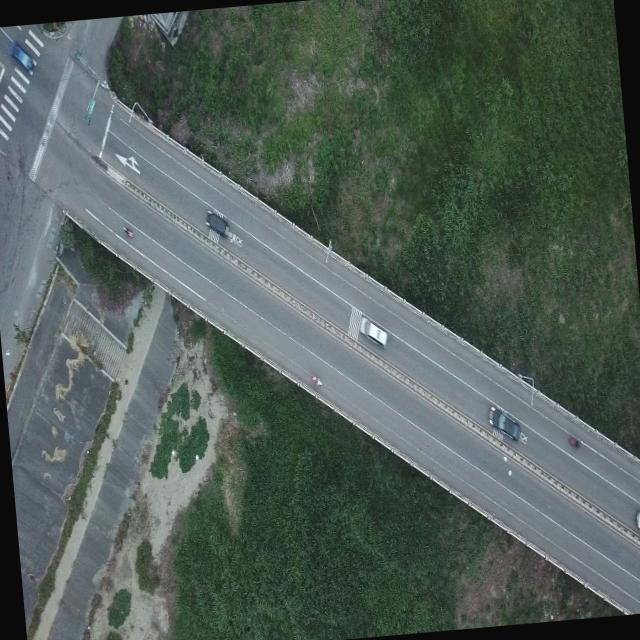bike: (566, 430, 582, 452), (308, 370, 322, 390), (122, 224, 133, 238)
car: (486, 401, 521, 444), (358, 314, 388, 348), (8, 38, 36, 74), (204, 204, 230, 237), (44, 222, 60, 252), (34, 275, 49, 301), (634, 507, 640, 543), (26, 306, 37, 325)
